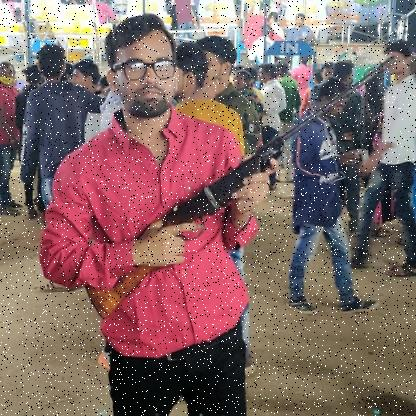rifle: (82, 53, 400, 322)
